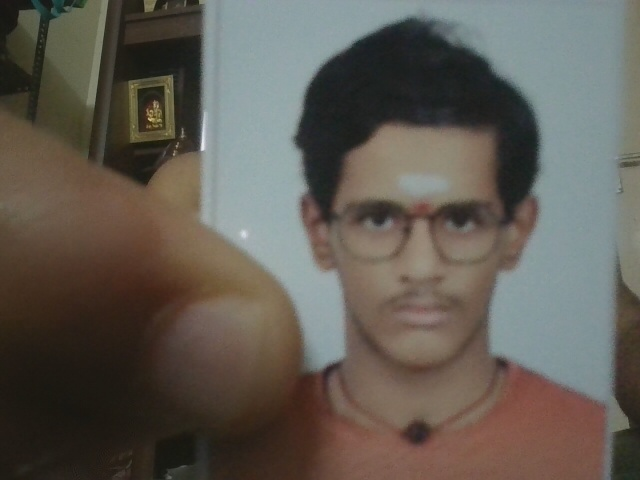fake: (295, 125, 547, 377)
